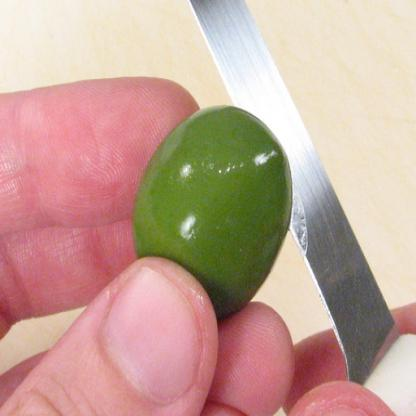knife: (111, 0, 415, 415)
